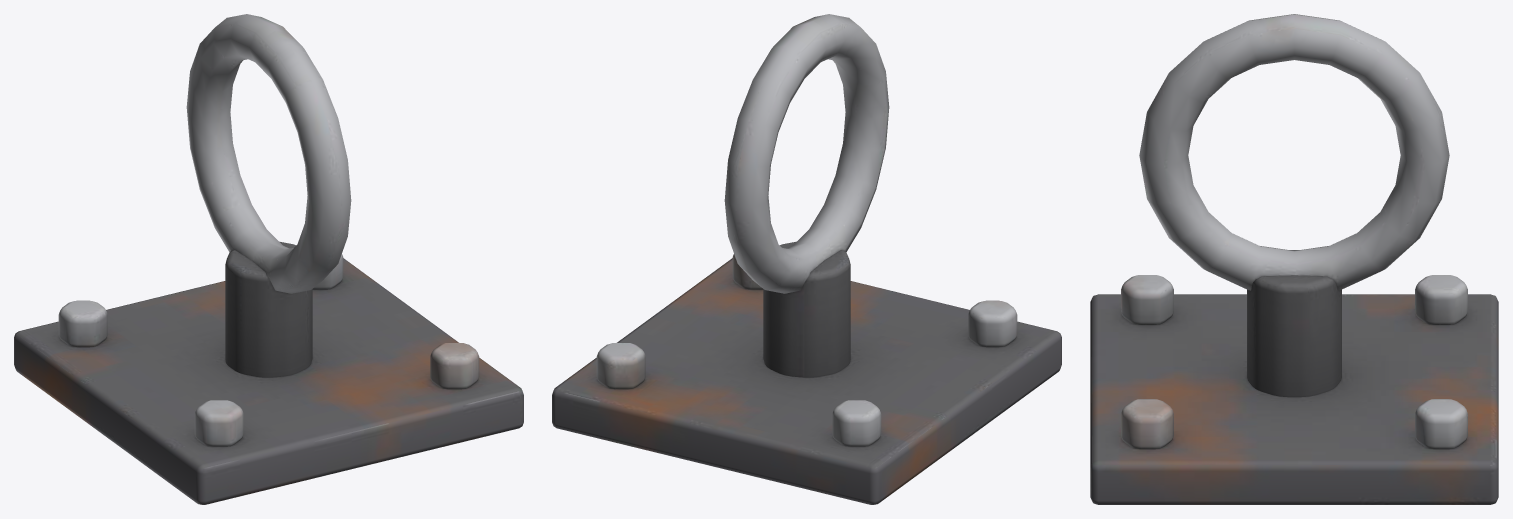
Rendered from anchor.glb.
3 renders of one model, left to right at view 1: azimuth 30°, elevation 25°; view 2: azimuth 150°, elevation 25°; view 3: azimuth 270°, elevation 25°, orthographic. The views are drawn at different scales.
Parts seen in each view (by area): view 1: Anchor; view 2: Anchor; view 3: Anchor.
Boxes of the visible parts, bbox=[...] form: Anchor: bbox=[14, 14, 523, 504]; Anchor: bbox=[552, 14, 1061, 504]; Anchor: bbox=[1090, 14, 1498, 504].
Size of the model in its own units: 0.5 by 0.55 by 0.5.
2 materials, 2 textured.
